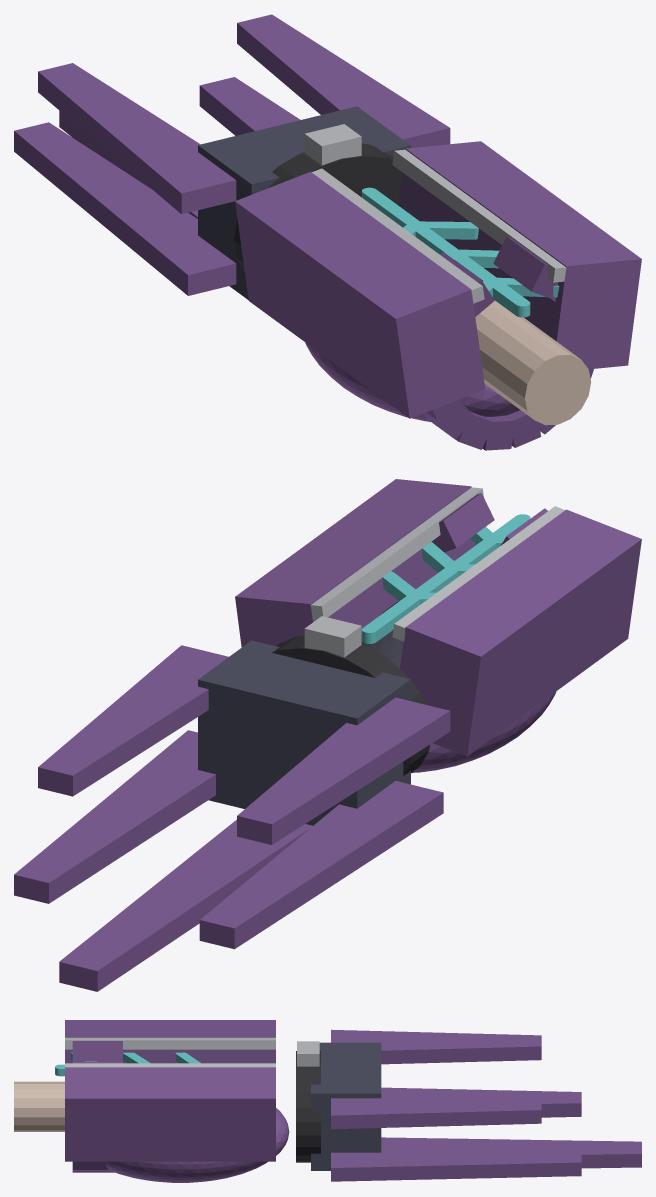
The model's file is primm_torso.glb.
3 views of the same model, one above another, from view 1: azimuth 30°, elevation 25°; view 2: azimuth 150°, elevation 25°; view 3: azimuth 270°, elevation 25° (orthographic). The views are drawn at different scales.
Parts seen in each view (by area): view 1: geometry_0; view 2: geometry_0; view 3: geometry_0.
Part boxes in pixels (x1,y1,x2,y2): geometry_0: [14, 14, 641, 450]; geometry_0: [14, 479, 641, 991]; geometry_0: [14, 1020, 641, 1182].
Size of the model in its own units: 0.405 by 0.2718 by 1.25.
